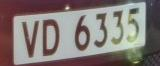3: (92, 8, 111, 54), (109, 8, 127, 50)
5: (125, 6, 143, 47)
6: (73, 10, 93, 57)
D: (40, 15, 63, 59)
V: (20, 18, 41, 61)
